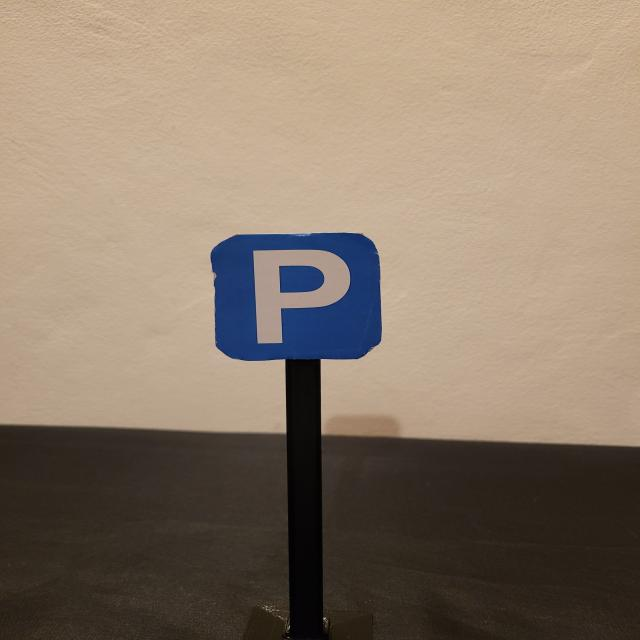parking: (211, 231, 385, 360)
